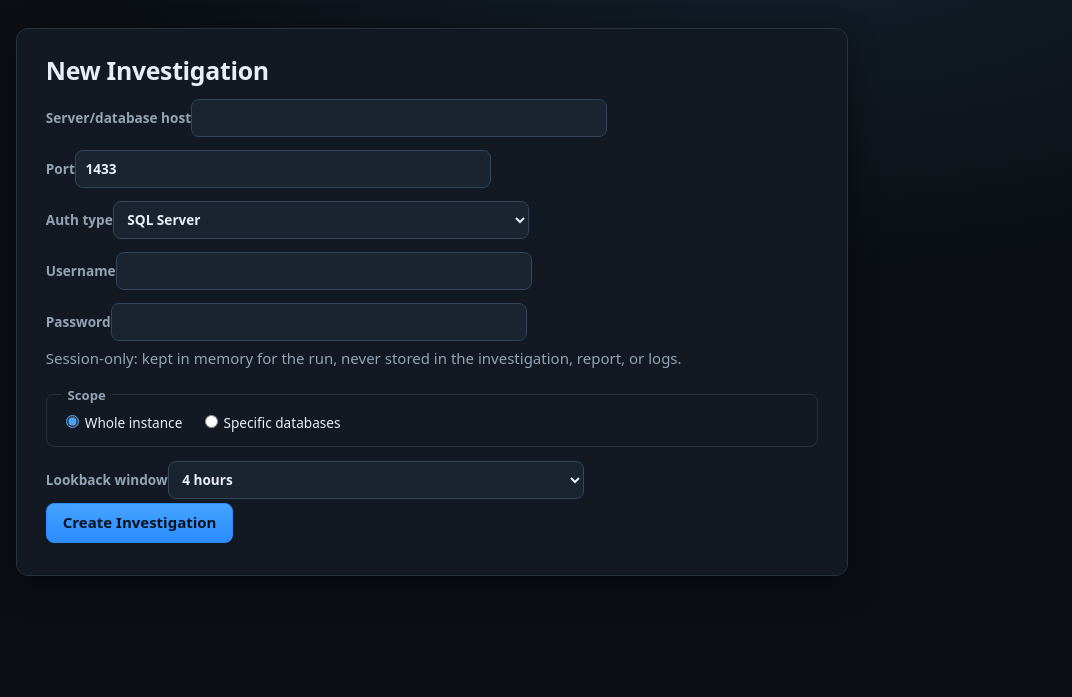
Test: ConnectionScopeForm › requires at least one database when scope is databases
Type "sql02.acme.example" into the field labelled "Server/database host".
click(399, 118); type("sql02.acme.example")  # box [191,99,607,137]
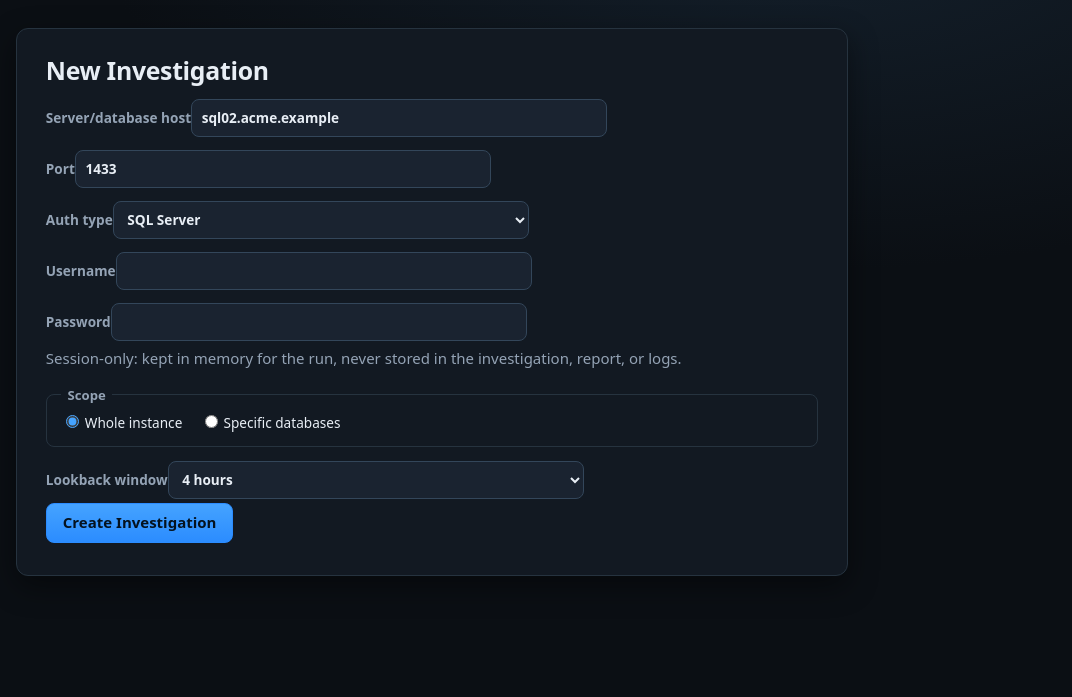
Type "s3cret-pass" into the password field labelled "Password".
click(319, 322); type("s3cret-pass")  # box [111,303,527,341]
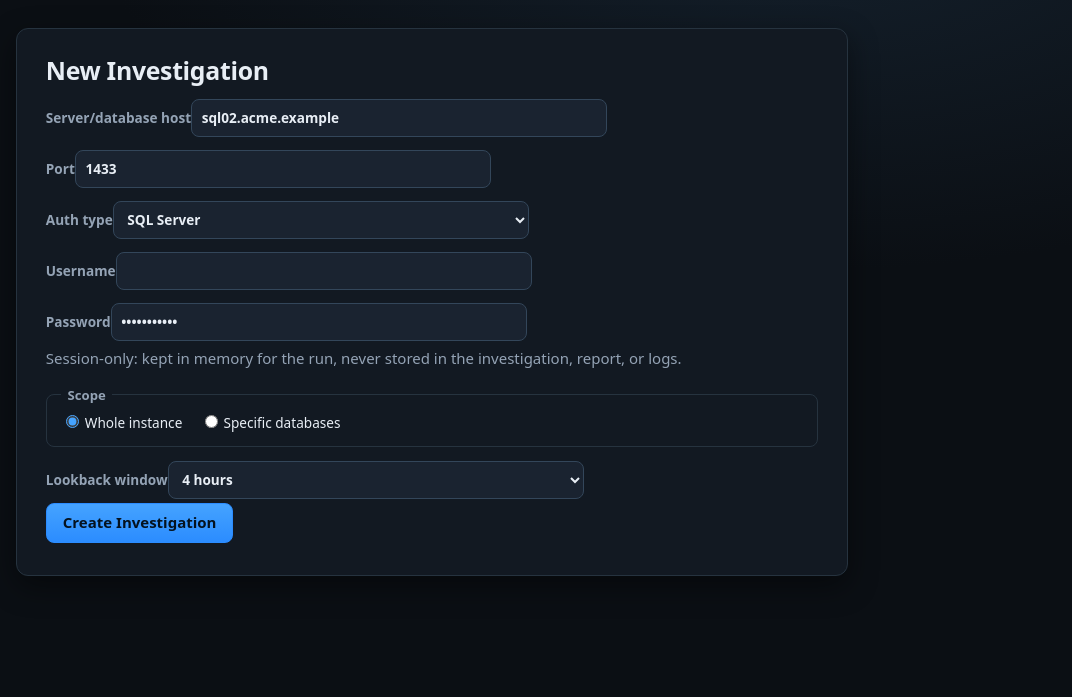
Click the radio button labelled "Specific databases".
click(211, 422)  # box [205,415,218,428]
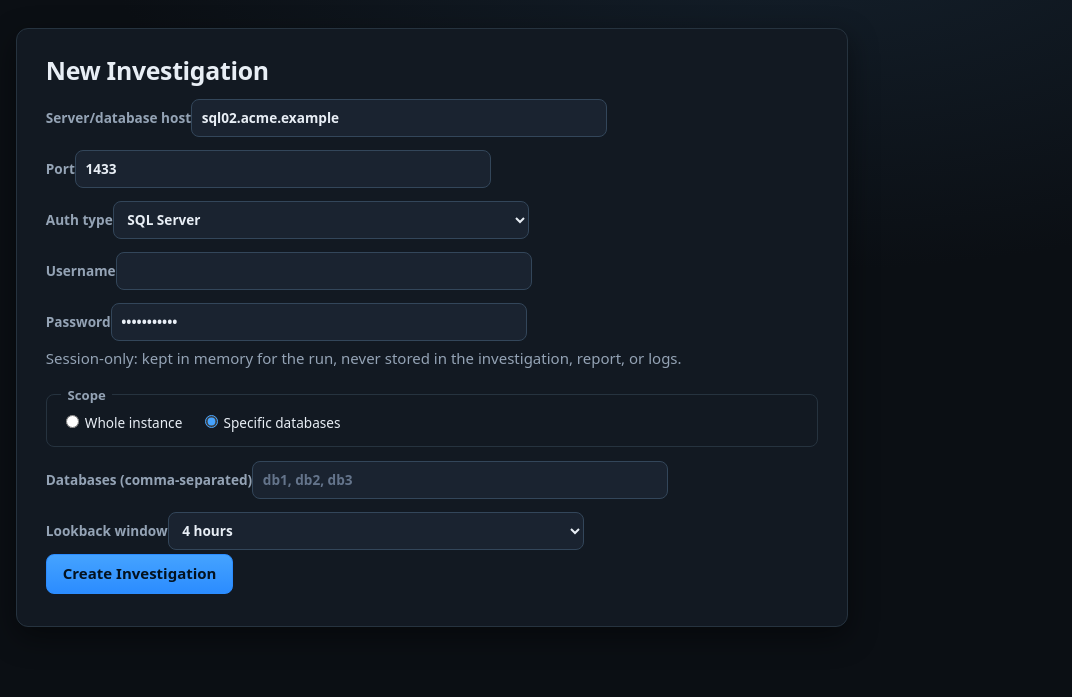
Click the button "Create Investigation".
click(140, 574)  # box [46,554,234,594]
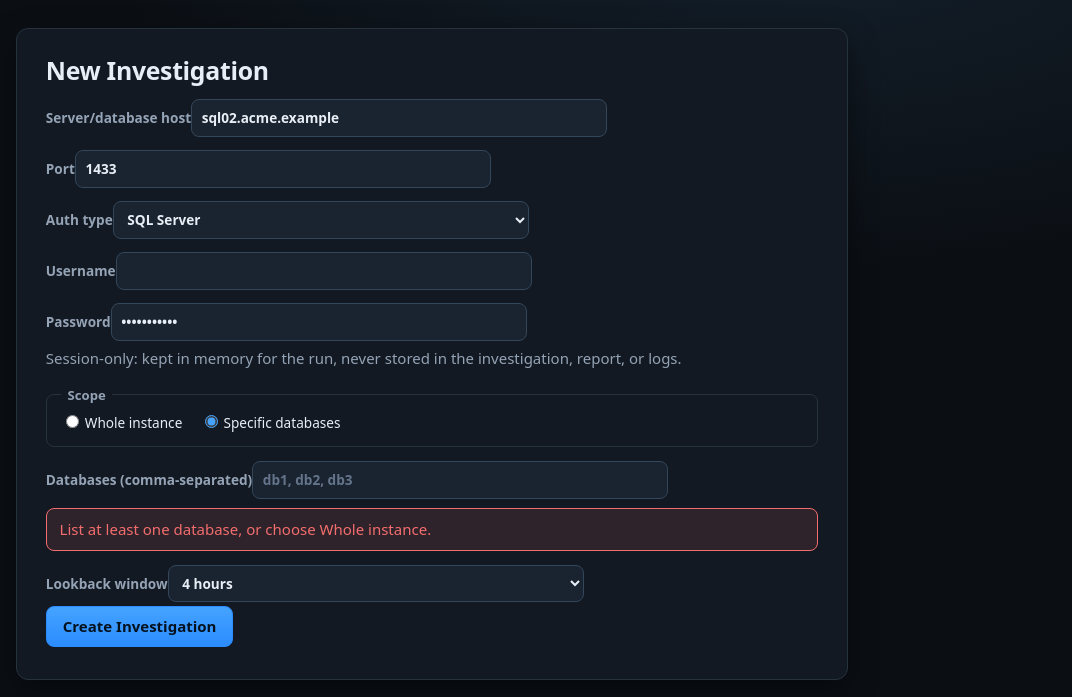
Expected: the text "List at least one database, or choose Whole instance." is shown, [46,508,818,551]
